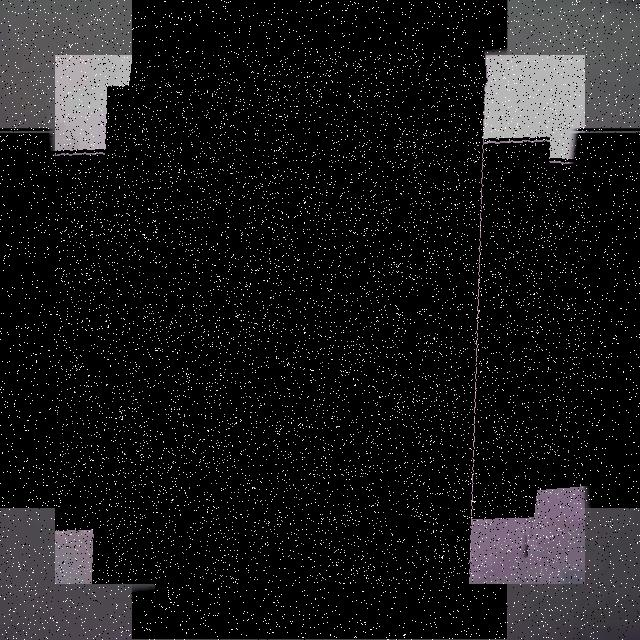dua ribu rupiah: (55, 55, 585, 584)
